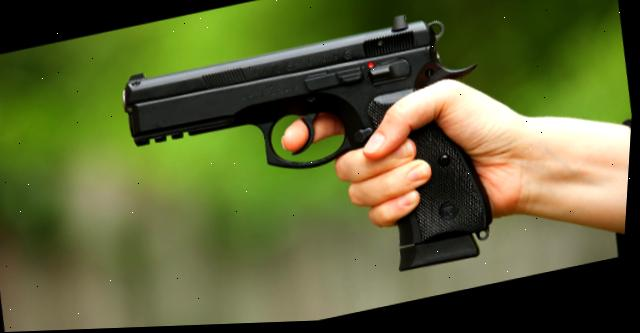pistol: (102, 2, 513, 330)
